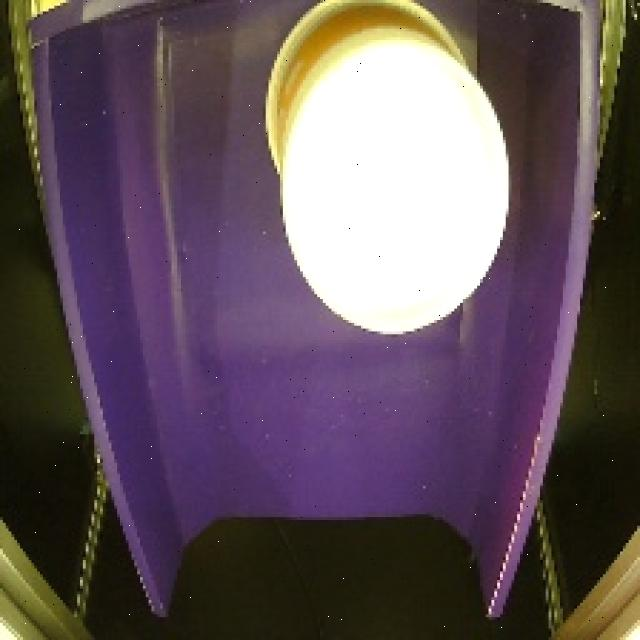cups: (254, 0, 526, 345)
